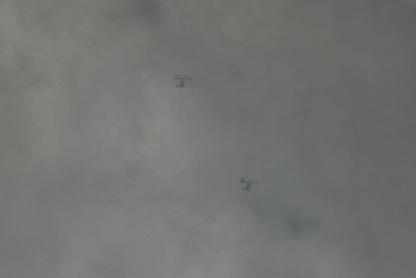Tornado: (235, 174, 264, 190), (170, 71, 196, 88)
